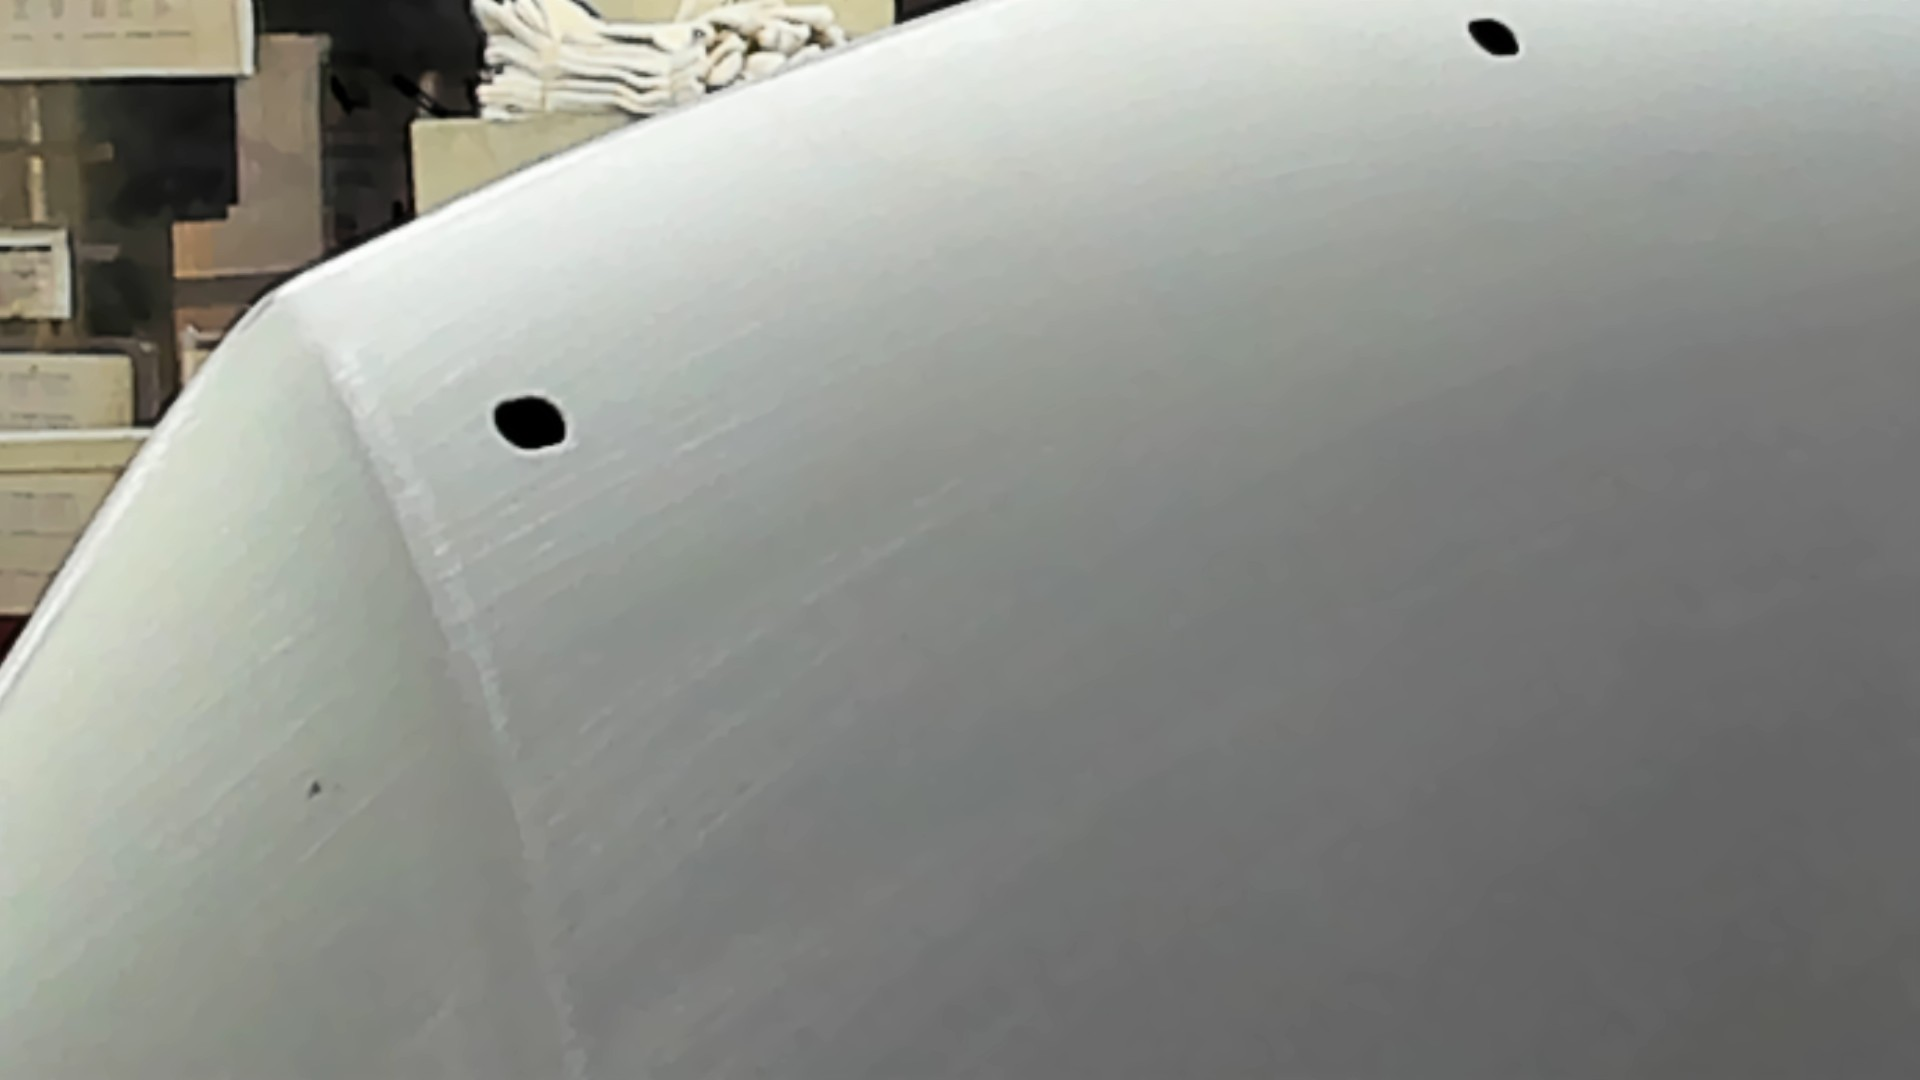amorfo: (488, 392, 574, 458), (1464, 11, 1523, 61)
